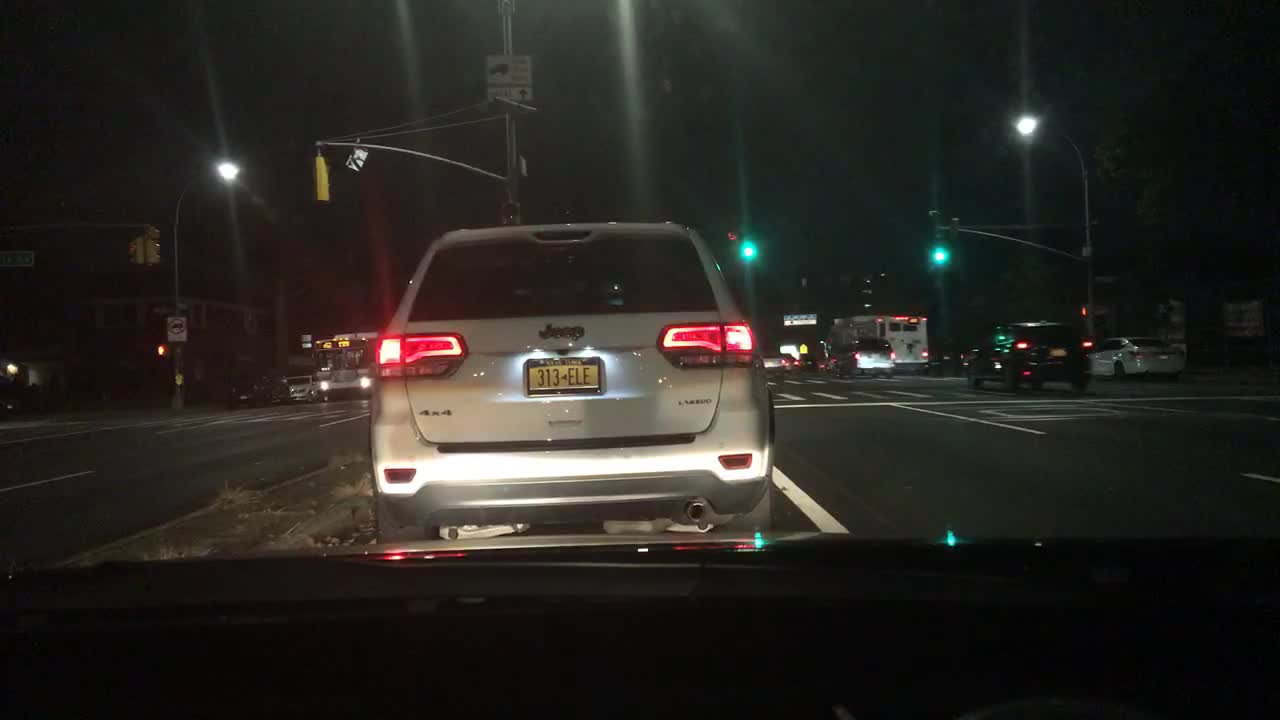car: (367, 222, 773, 544), (964, 319, 1089, 391), (1088, 335, 1181, 380), (827, 335, 895, 372), (233, 375, 291, 407), (754, 334, 785, 387), (286, 374, 315, 403), (781, 352, 799, 369), (798, 355, 814, 369)
traffic light: (312, 156, 332, 201), (145, 228, 162, 263), (132, 236, 144, 263), (739, 242, 758, 258), (931, 246, 948, 263), (725, 229, 741, 241), (158, 343, 170, 355), (1079, 304, 1088, 315)
traffic sign: (1220, 297, 1265, 335), (483, 55, 533, 85), (0, 247, 36, 268), (487, 86, 532, 99), (166, 316, 187, 342), (784, 314, 818, 323), (498, 0, 516, 13), (1093, 274, 1120, 281), (153, 306, 176, 314), (300, 334, 311, 341), (800, 343, 807, 353), (301, 342, 311, 347), (173, 374, 181, 379), (173, 381, 182, 385)
truck: (819, 314, 929, 375), (314, 332, 383, 401)
